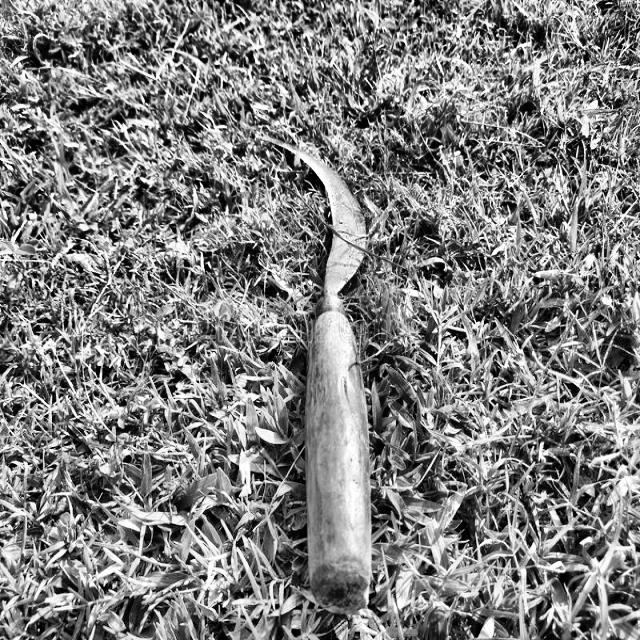celurit: (261, 141, 385, 618)
